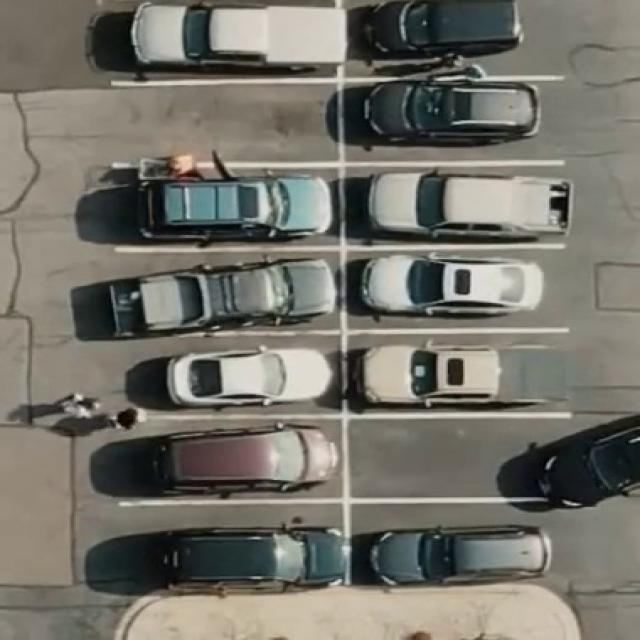empty: (117, 89, 333, 158)
notEmpty: (353, 421, 569, 497), (349, 86, 567, 158), (116, 2, 334, 74), (357, 507, 565, 582), (139, 420, 337, 498), (121, 172, 335, 243), (130, 512, 340, 584), (351, 171, 574, 238), (352, 3, 566, 72), (351, 340, 574, 406), (130, 256, 338, 326), (352, 257, 562, 324), (146, 340, 337, 412)
